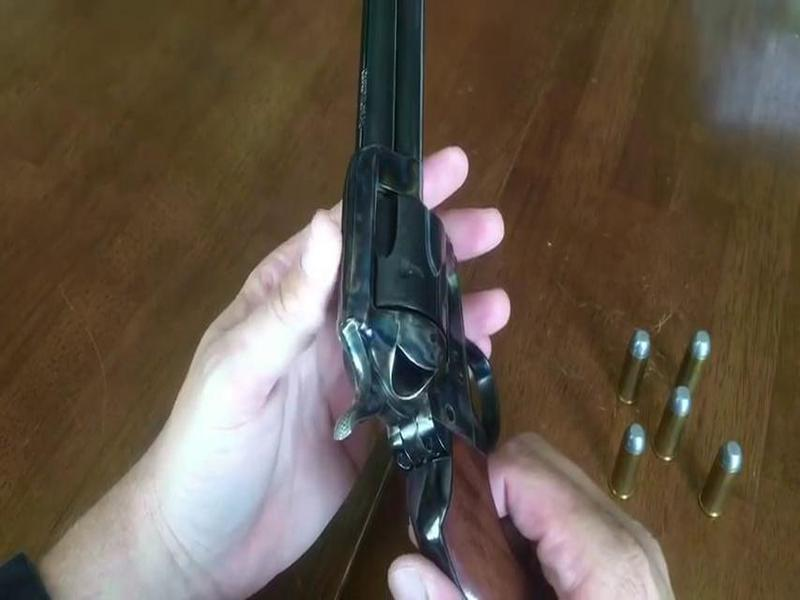Revolver: (316, 9, 585, 600)
